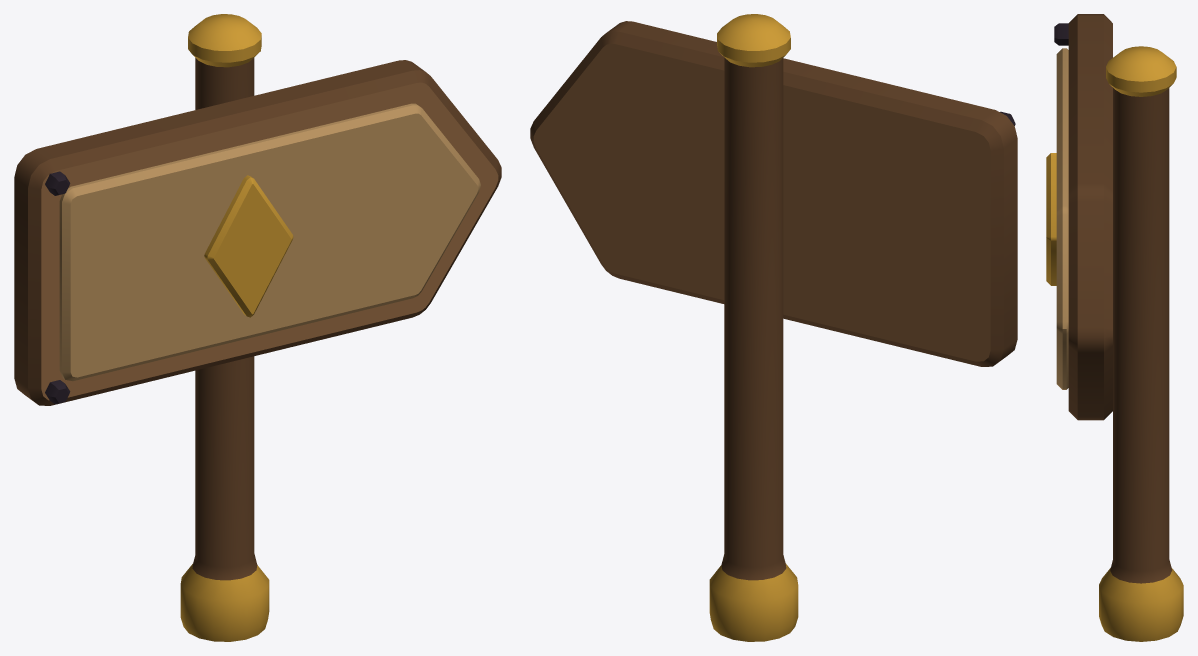
Rendered from Sign_07.glb.
3 views of the same model, side by side, from view 1: azimuth 30°, elevation 25°; view 2: azimuth 150°, elevation 25°; view 3: azimuth 270°, elevation 25° (orthographic). The views are drawn at different scales.
Parts seen in each view (by area): view 1: Sign_07; view 2: Sign_07; view 3: Sign_07.
Part boxes in pixels (bbox=[...]): Sign_07: bbox=[14, 14, 501, 641]; Sign_07: bbox=[530, 14, 1017, 641]; Sign_07: bbox=[1046, 14, 1183, 641].
Bounding box in the file's own units: 2.57 × 3.13 × 0.68.
